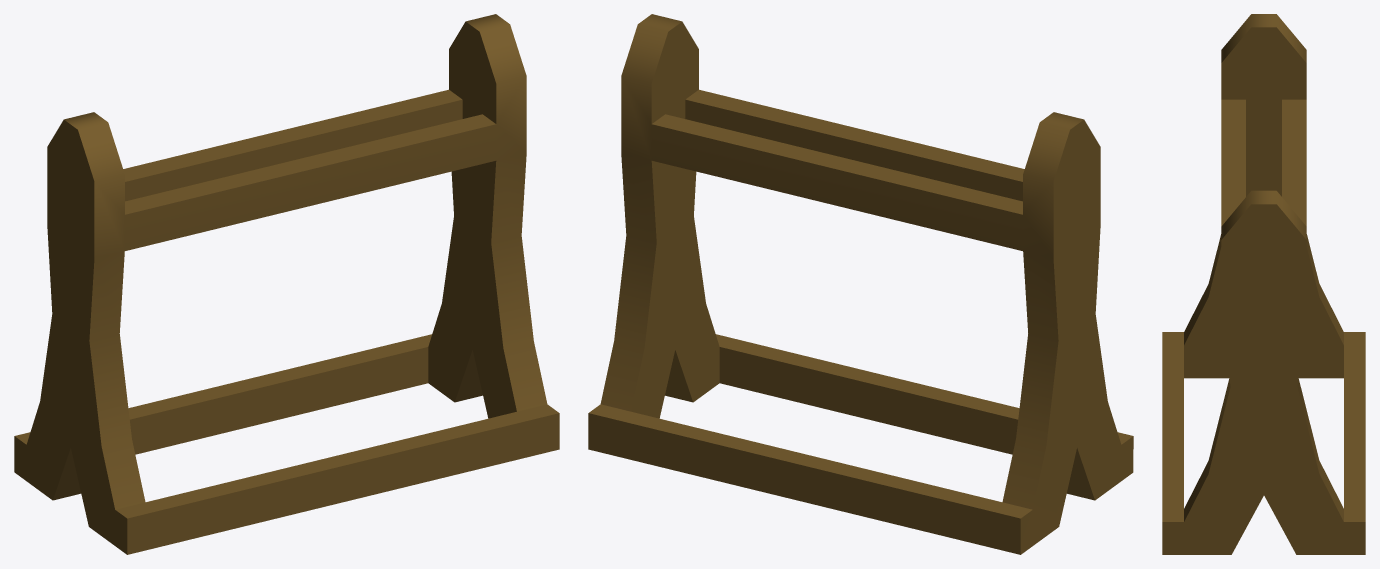
Rendered from weaponholder.fbx.
3 views of the same model, side by side, from view 1: azimuth 30°, elevation 25°; view 2: azimuth 150°, elevation 25°; view 3: azimuth 270°, elevation 25° (orthographic). The views are drawn at different scales.
Parts seen in each view (by area): view 1: WoodenWeaponRack; view 2: WoodenWeaponRack; view 3: WoodenWeaponRack.
Boxes of the visible parts, bbox=[...] form: WoodenWeaponRack: bbox=[14, 14, 559, 554]; WoodenWeaponRack: bbox=[588, 14, 1133, 554]; WoodenWeaponRack: bbox=[1162, 14, 1365, 554].
Bounding box in the file's own units: 22.2 × 19.09 × 10.03.
